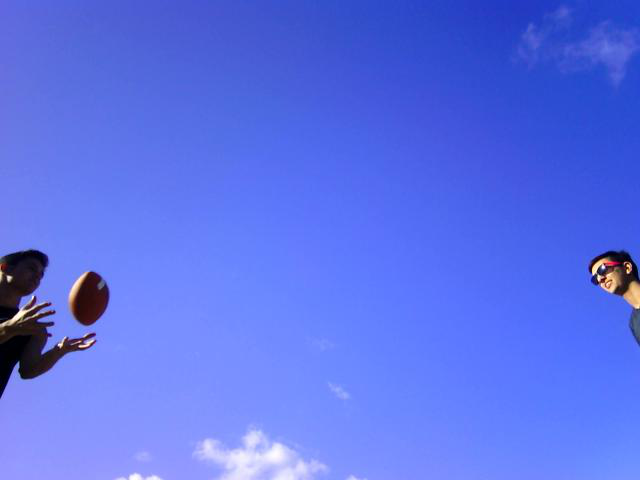football: (64, 267, 111, 332)
